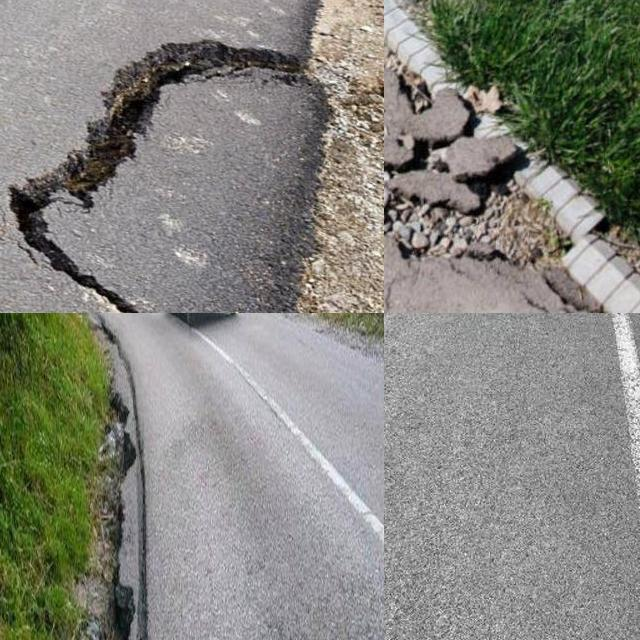Pinggir: (0, 20, 361, 313), (384, 0, 625, 272), (80, 313, 161, 640)
